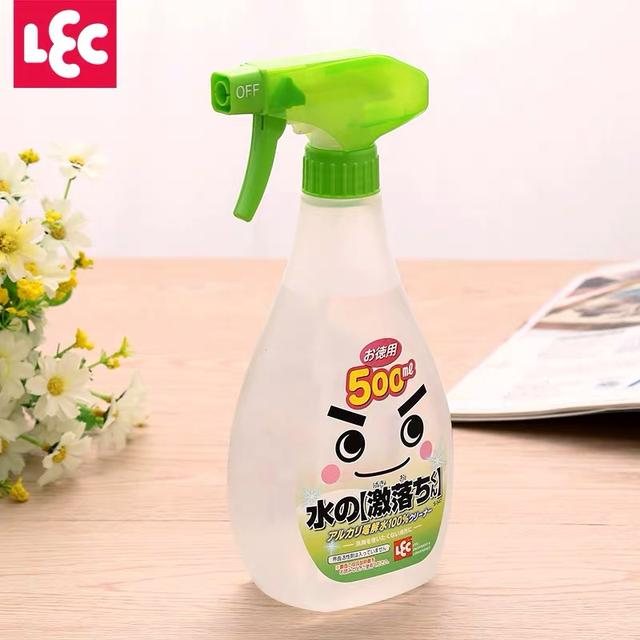cleaner: (206, 50, 465, 618)
